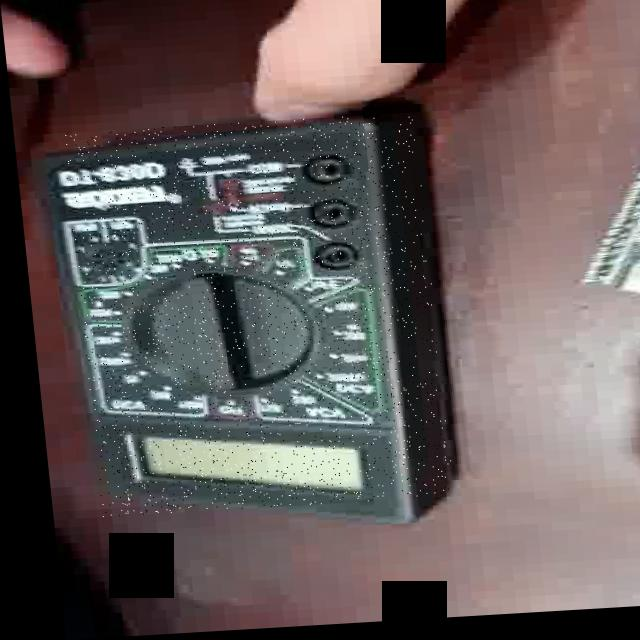multimeter: (59, 117, 444, 518)
